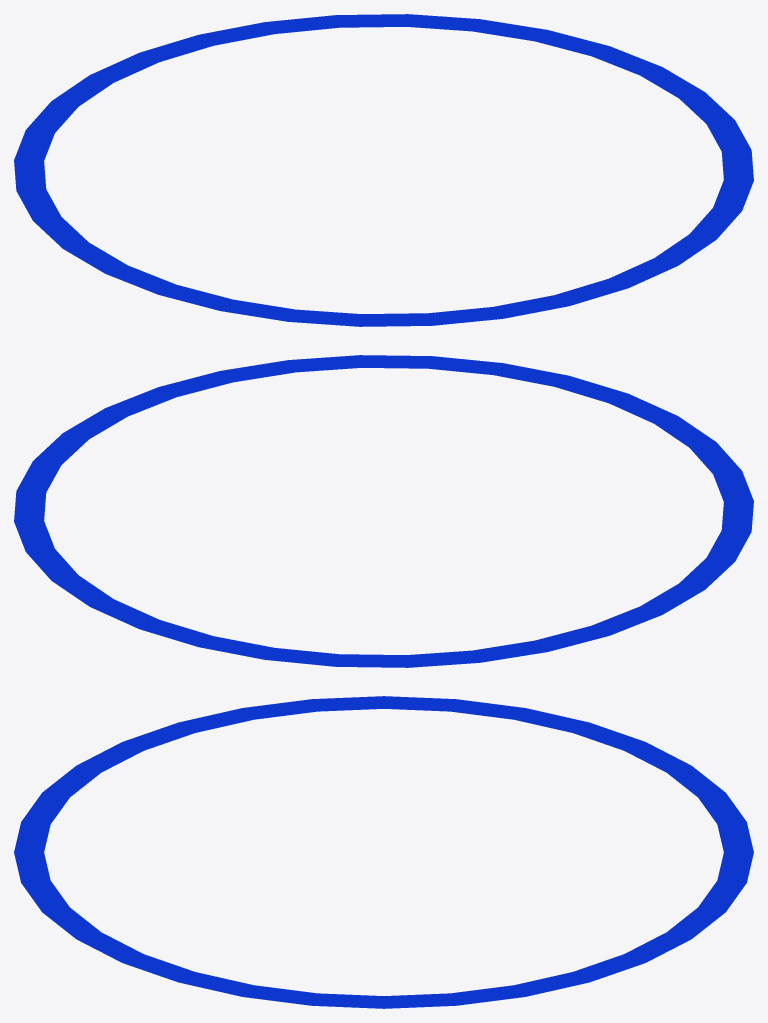
File: circleBlue.fbx
The picture shows the model from 3 angles, top to bottom: view 1: azimuth 30°, elevation 25°; view 2: azimuth 150°, elevation 25°; view 3: azimuth 270°, elevation 25°; orthographic projection.
Parts seen in each view (by area): view 1: Circle; view 2: Circle; view 3: Circle.
Boxes of the visible parts, box(x1,y1,x2,y2) form: Circle: box(14, 14, 753, 326); Circle: box(14, 355, 753, 667); Circle: box(14, 696, 753, 1008).
Bounding box in the file's own units: 195 × 3.18e-05 × 195.
